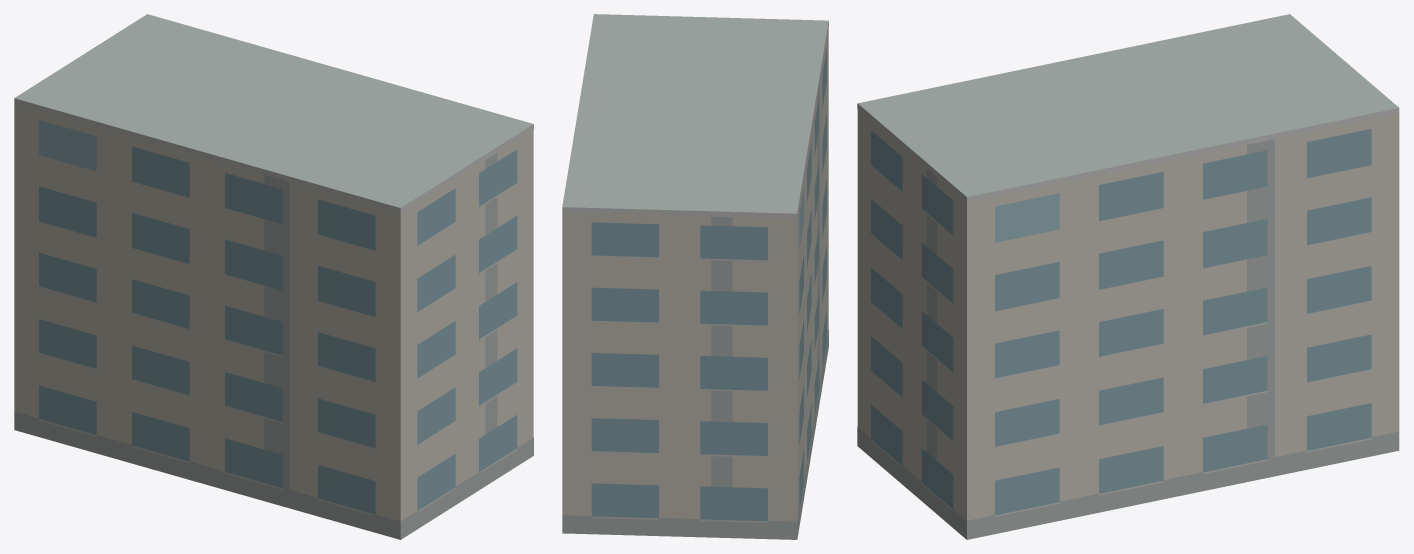
Rendered from survey-upis-32638319.glb.
The picture shows the model from 3 angles, left to right: view 1: azimuth 30°, elevation 25°; view 2: azimuth 150°, elevation 25°; view 3: azimuth 270°, elevation 25°; orthographic projection. The views are drawn at different scales.
Parts seen in each view (by area): view 1: survey-upis-32638319.tmp; view 2: survey-upis-32638319.tmp; view 3: survey-upis-32638319.tmp.
Part boxes in pixels (<box>): survey-upis-32638319.tmp: <box>14,14,533,539</box>; survey-upis-32638319.tmp: <box>562,14,828,539</box>; survey-upis-32638319.tmp: <box>857,14,1399,539</box>.
Size of the model in its own units: 16.68 by 14.55 by 20.85.
